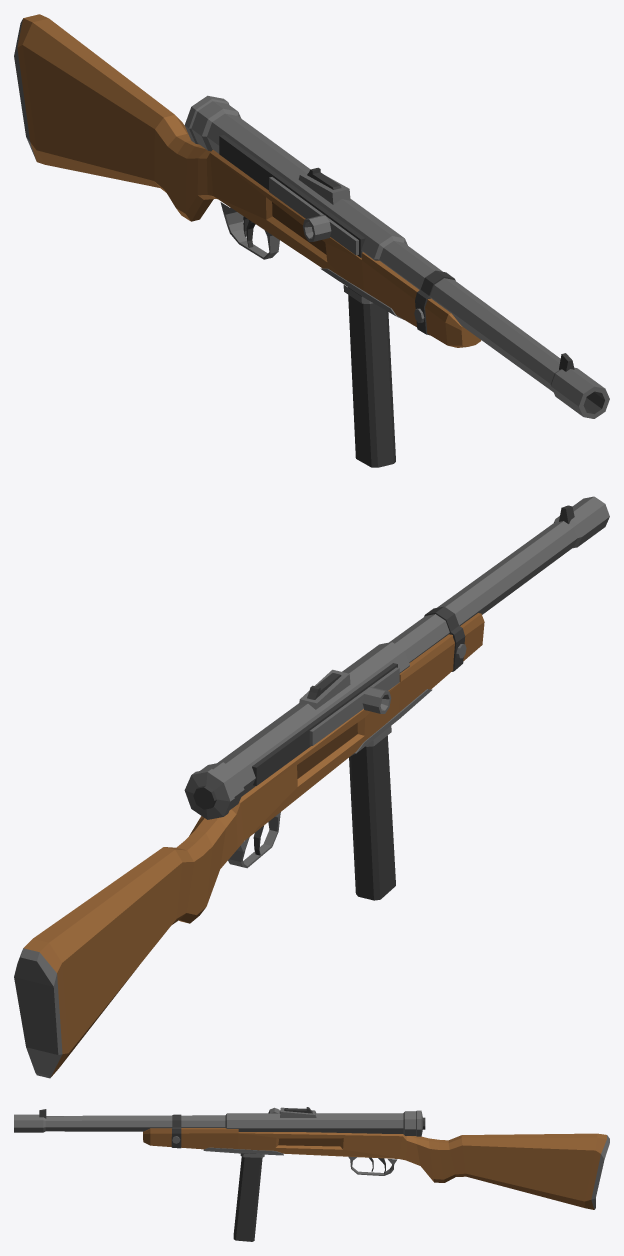
Rendered from Beretta38_Gun.glb.
3 views of the same model, one above another, from view 1: azimuth 30°, elevation 25°; view 2: azimuth 150°, elevation 25°; view 3: azimuth 270°, elevation 25° (orthographic). The views are drawn at different scales.
Parts seen in each view (by area): view 1: Beretta38, Beretta38MagImproved; view 2: Beretta38, Beretta38MagImproved; view 3: Beretta38, Beretta38MagImproved.
Part boxes in pixels (<box>): Beretta38: <box>14,14,609,458</box>; Beretta38MagImproved: <box>348,287,395,467</box>; Beretta38: <box>14,496,609,1078</box>; Beretta38MagImproved: <box>372,735,395,898</box>; Beretta38: <box>14,1107,609,1241</box>; Beretta38MagImproved: <box>233,1153,260,1240</box>.
Size of the model in its own units: 0.0634 by 0.2468 by 1.02.
1 material, 1 textured.
